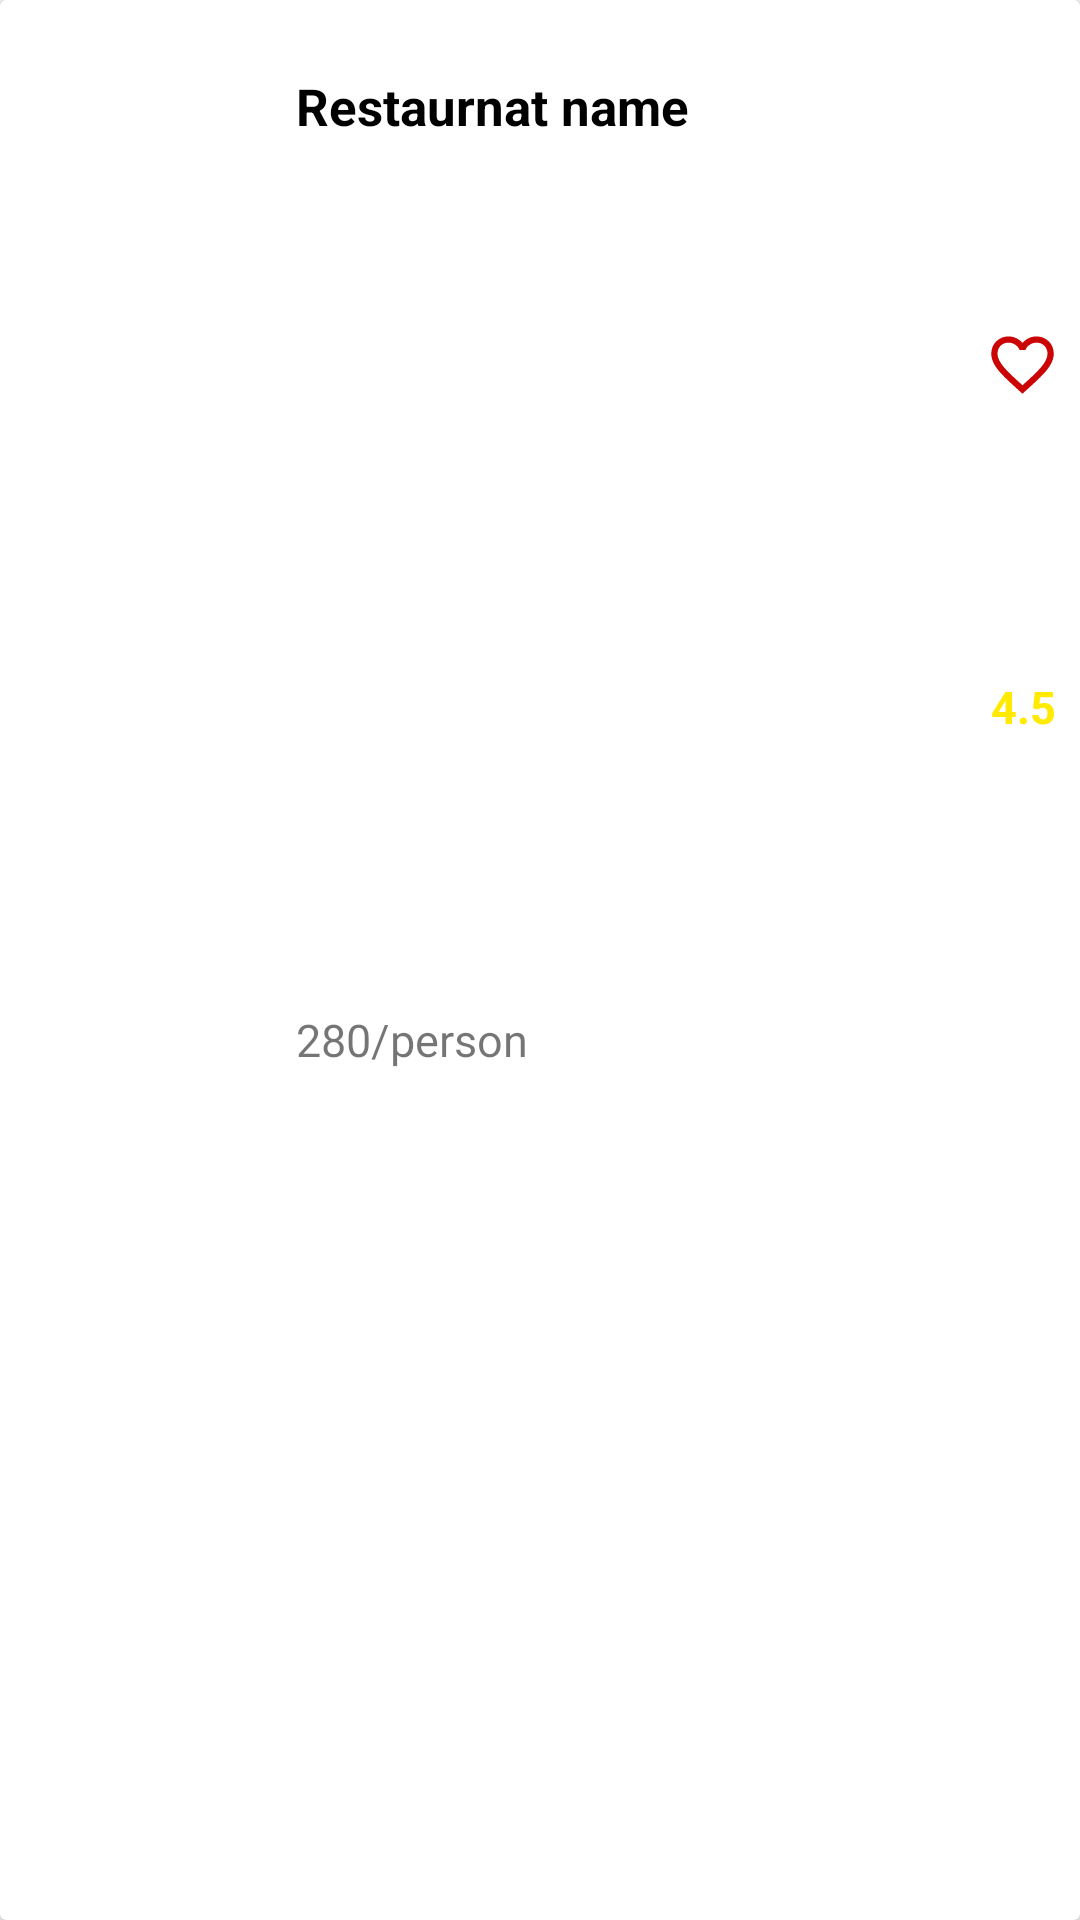

Locate icon controls on the screen. Image size 1080*1920, boxes as (x1, y1, x2, y2).
favorite border: (991, 336, 1054, 394)
